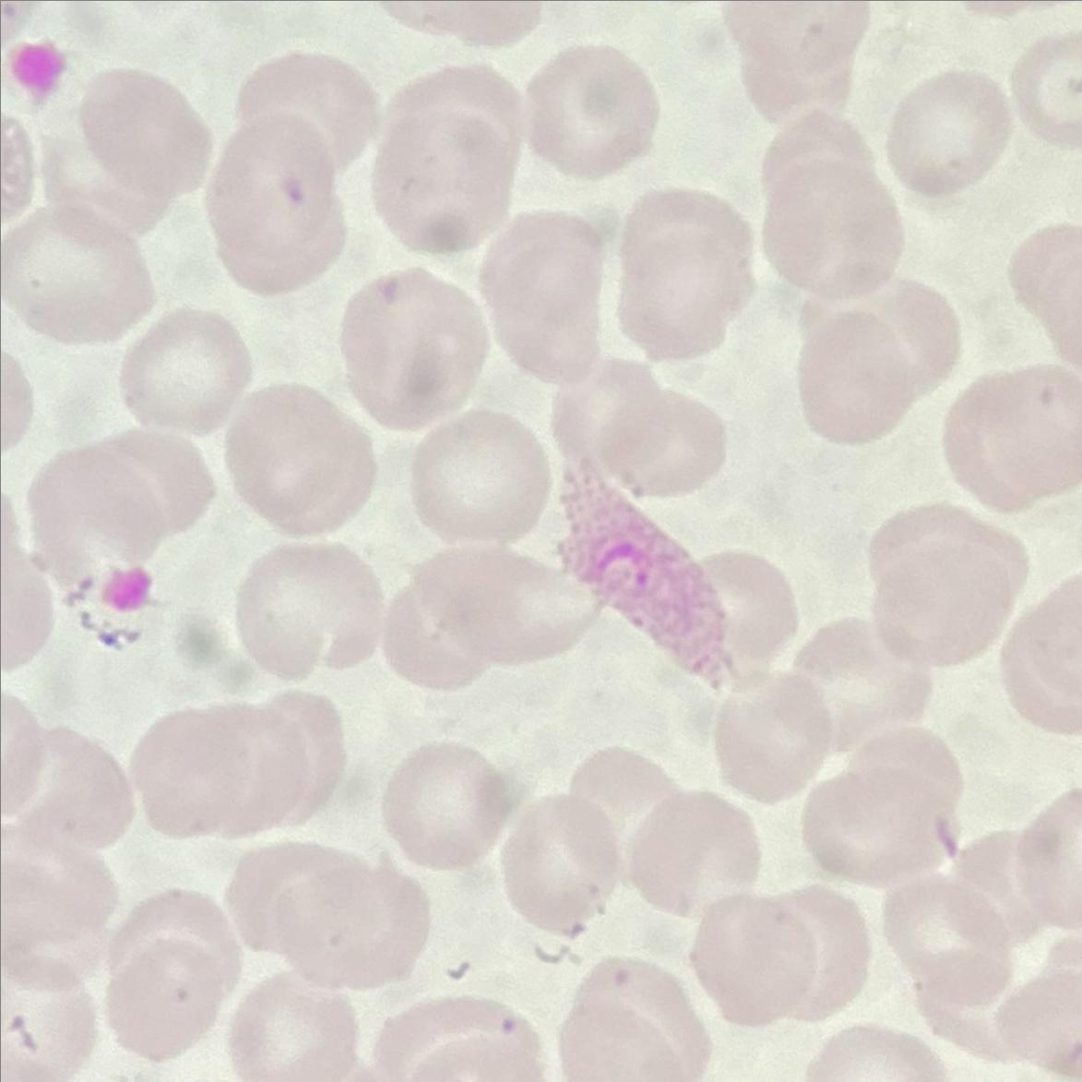Infected: (557, 453, 729, 683)
Uninfected: (386, 544, 596, 688), (132, 698, 339, 841), (233, 846, 427, 989), (866, 506, 1024, 673), (759, 116, 902, 298), (921, 901, 1074, 1071), (338, 269, 486, 438), (207, 119, 350, 292), (553, 359, 727, 501), (614, 188, 754, 361), (374, 90, 522, 252), (693, 887, 861, 1028), (222, 385, 376, 536), (478, 210, 610, 381), (73, 67, 214, 220), (232, 544, 386, 684), (109, 889, 237, 1057), (797, 302, 947, 444), (3, 209, 153, 347), (941, 365, 1082, 511), (407, 410, 552, 543), (958, 784, 1081, 940), (29, 442, 162, 580), (233, 52, 383, 171), (525, 44, 659, 175), (4, 703, 125, 848), (561, 960, 707, 1080), (628, 788, 760, 920), (380, 743, 515, 872), (727, 5, 873, 120), (884, 874, 1008, 1005), (498, 798, 618, 933), (789, 620, 920, 743), (118, 309, 248, 432), (0, 803, 110, 944), (716, 673, 836, 802), (886, 74, 1010, 195), (370, 994, 542, 1079), (829, 728, 964, 835), (1000, 562, 1081, 736), (565, 745, 672, 874), (228, 978, 358, 1082), (700, 553, 796, 670), (6, 971, 95, 1076)
